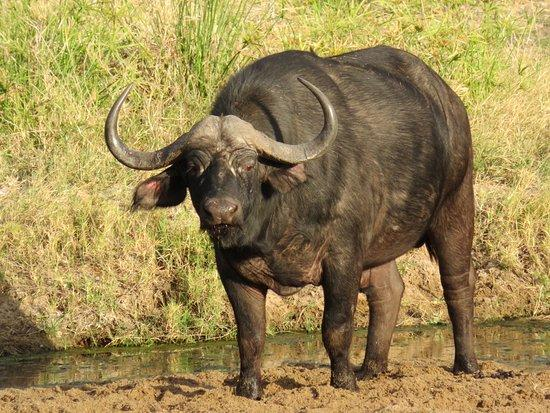Buffalo: (84, 47, 524, 358)
